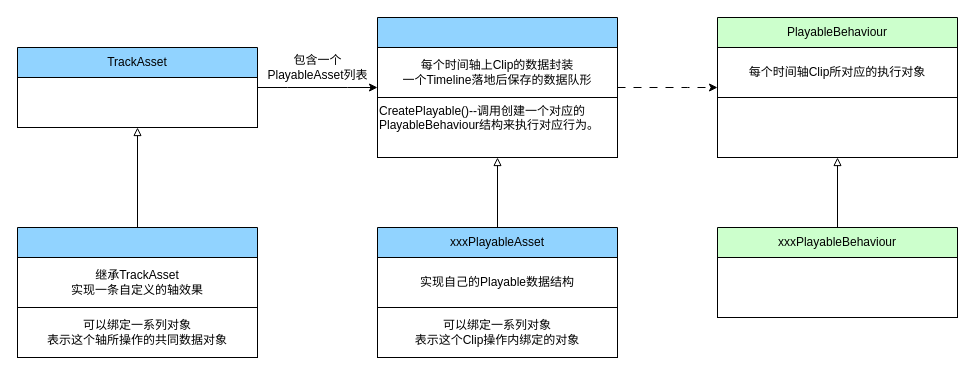
The diagram is 975 pixels wide and 375 high, and some of its shapes have lost their labels. Each missing label, with the box of its shape:
PlayableAsset: (376, 16, 618, 158)
xxxTrackAsset: (16, 226, 258, 358)
相当于Timeline中一条轴Track的数据封装: (16, 76, 258, 128)
约定的，运行调用接口 OnBehaviourPlay()--Behaviour开始逻辑 ProcessFrame()--运行时每帧逻辑: (716, 96, 958, 158)
继承以实现自己的运行调用行为: (716, 256, 958, 318)
